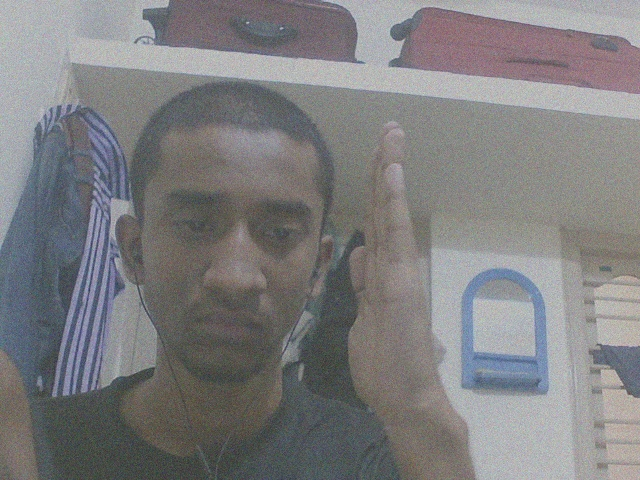hand: (338, 118, 450, 427)
